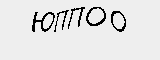О: (84, 3, 107, 27), (110, 8, 128, 32)
П: (68, 4, 83, 31), (52, 8, 67, 33)
Ю: (29, 7, 54, 34)
